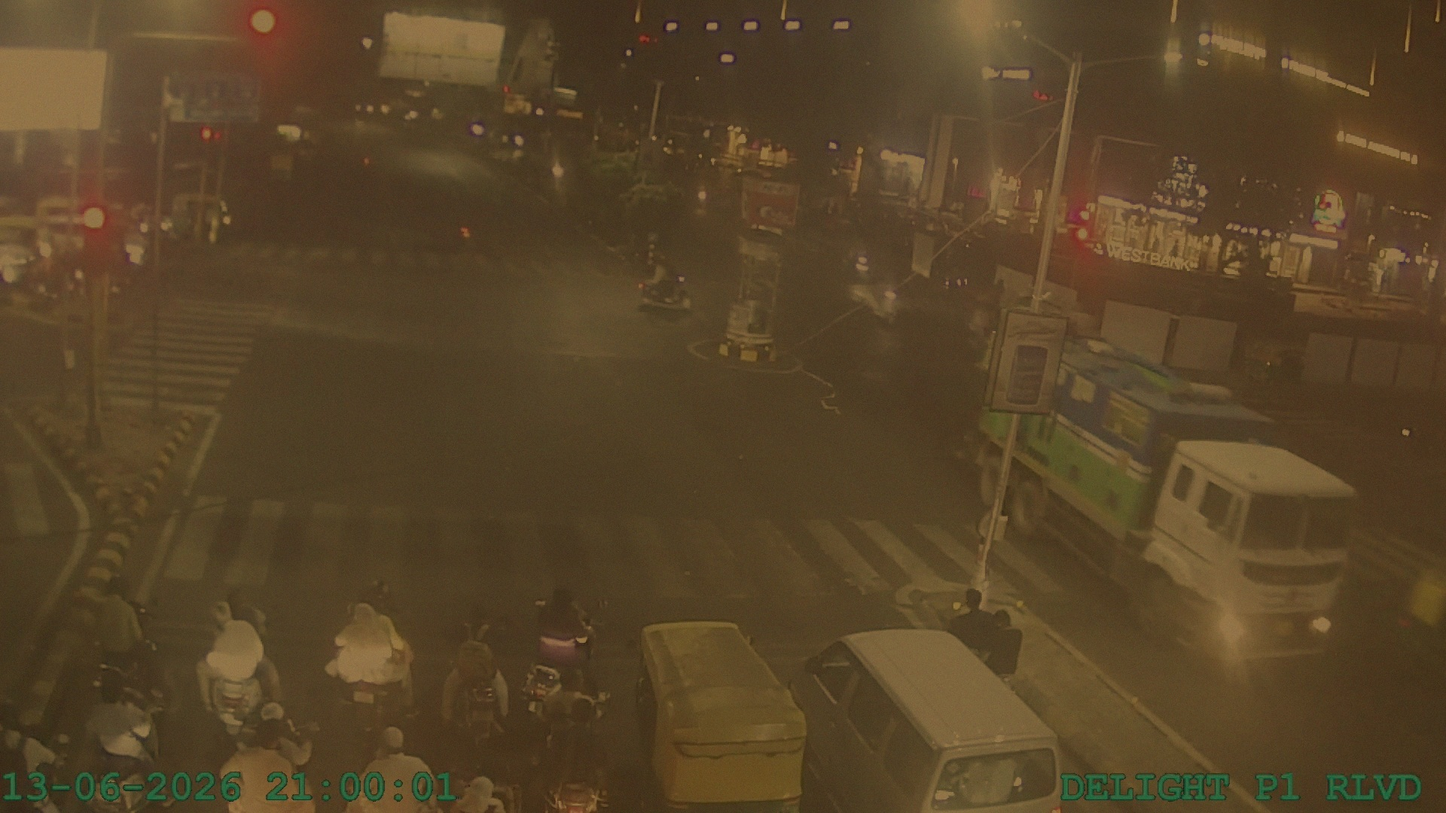auto_rickshaw: (1136, 431, 1372, 663)
pedestrian: (179, 592, 287, 782)
